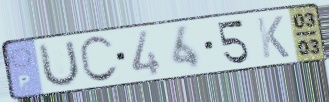4: (169, 22, 205, 75), (129, 27, 163, 79)
5: (215, 19, 252, 66)
C: (77, 34, 121, 85)
K: (254, 14, 292, 61)
U: (37, 38, 82, 91)
